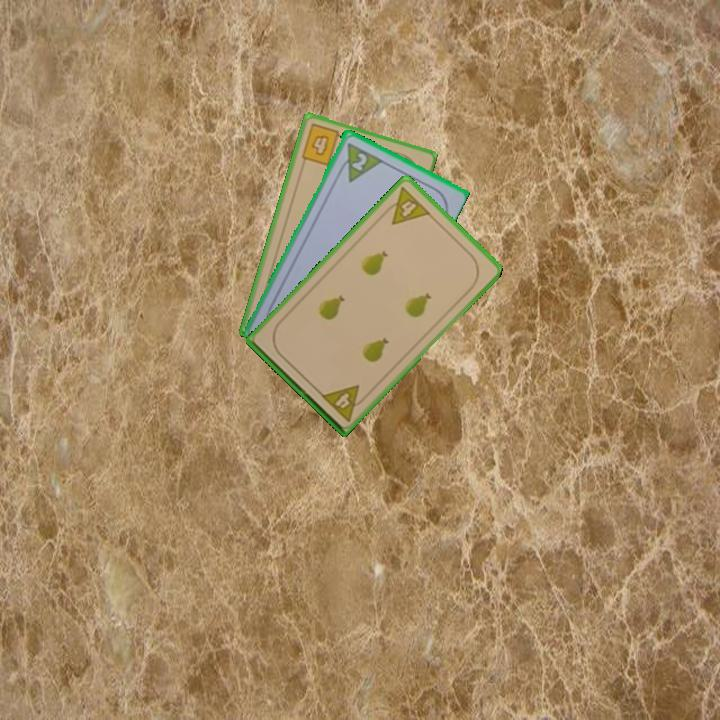2p: (348, 148, 370, 174)
4b: (298, 120, 348, 169)
4p: (379, 183, 433, 228), (317, 381, 371, 424)
